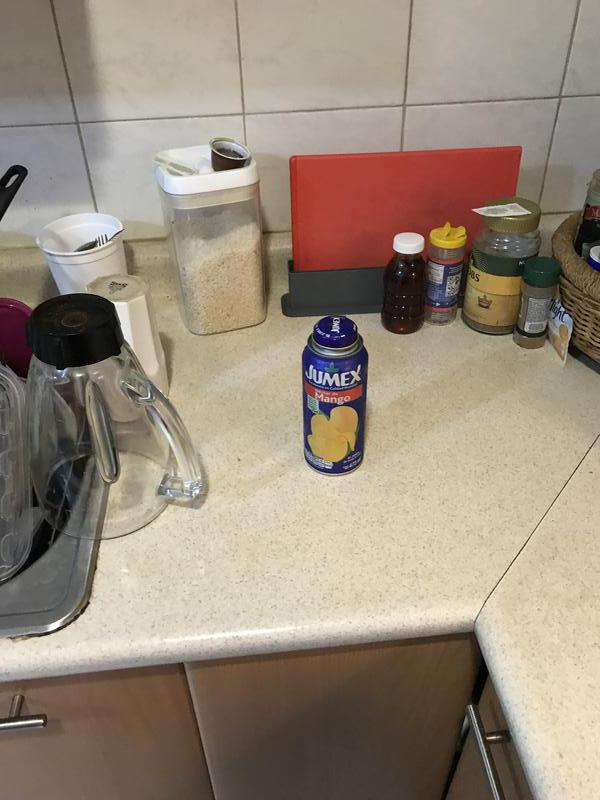jugo_jumex: (296, 315, 371, 478)
